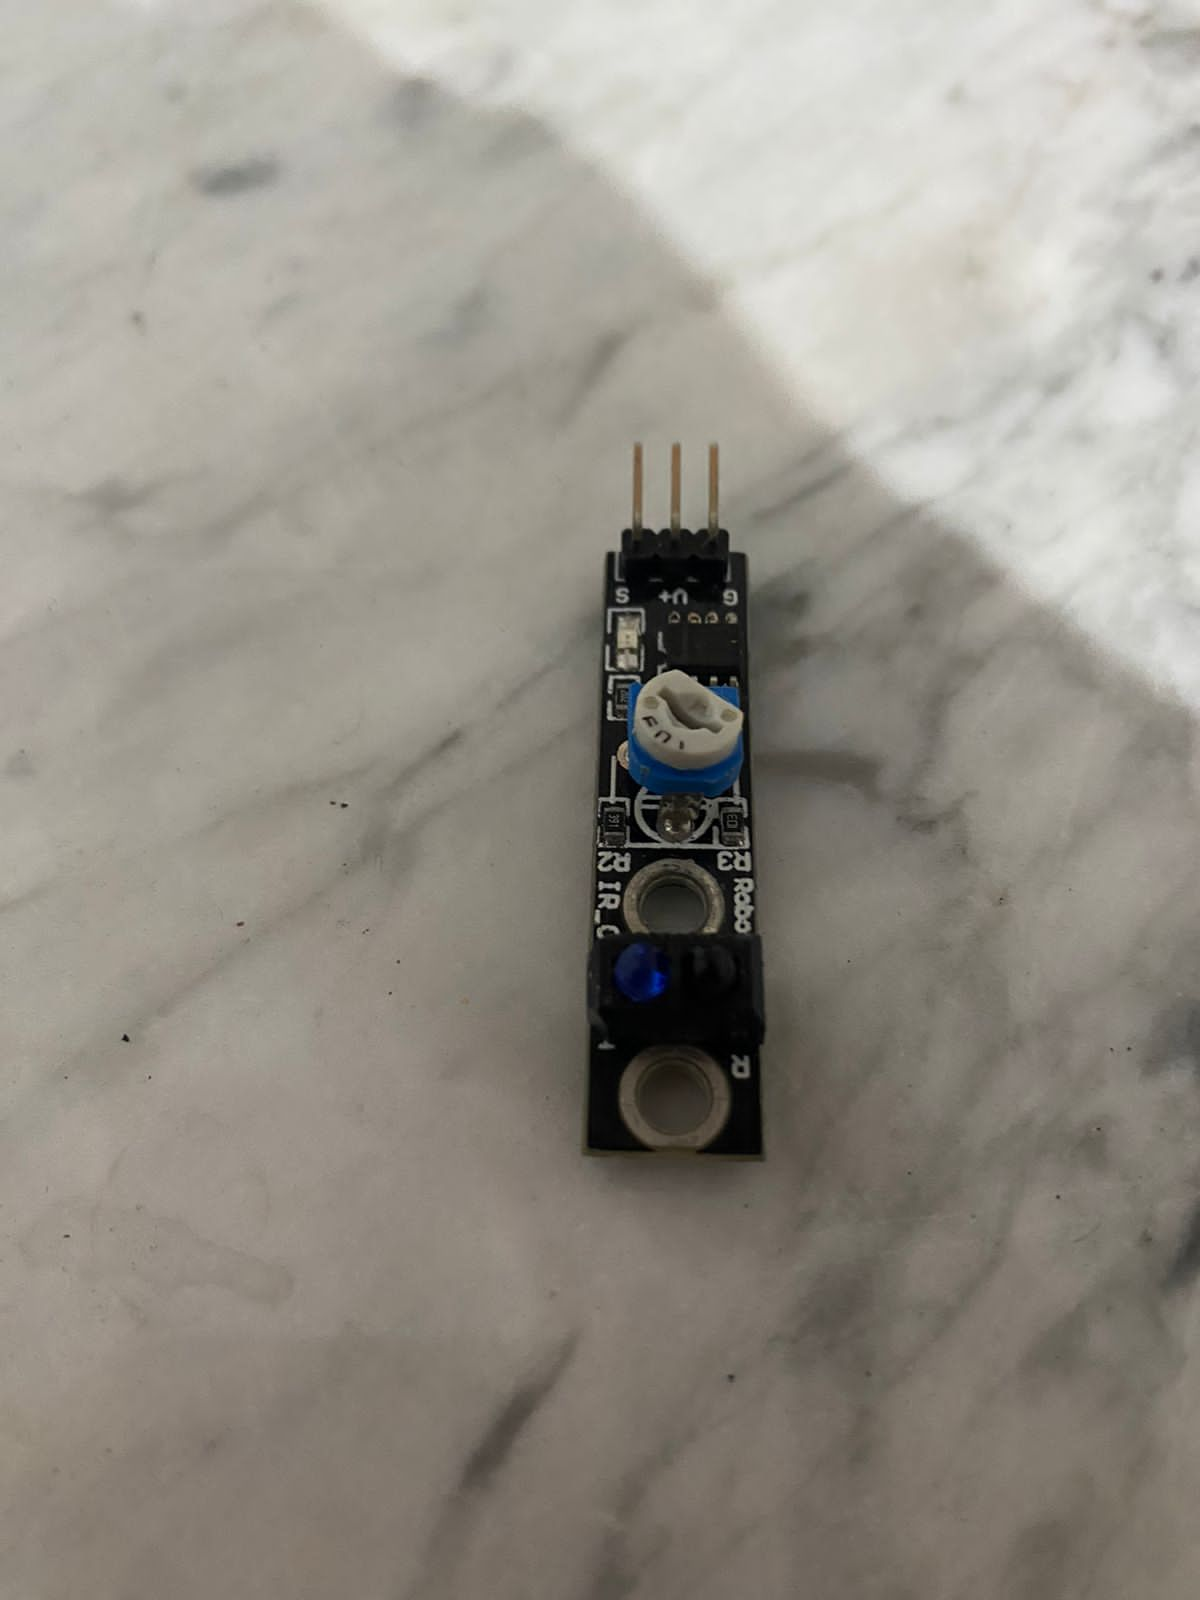ir-sensor: (570, 437, 788, 1187)
